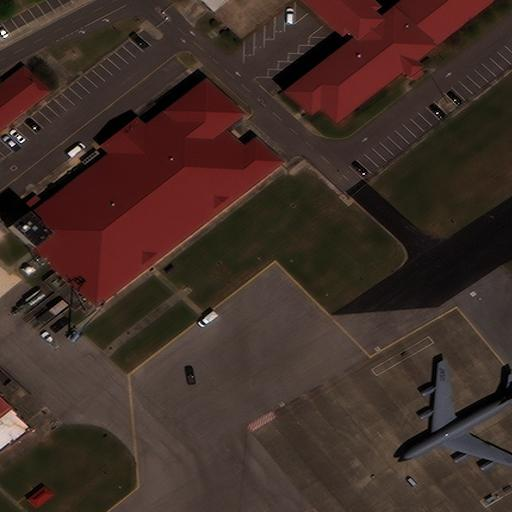Military Transport: (401, 361, 512, 467)
